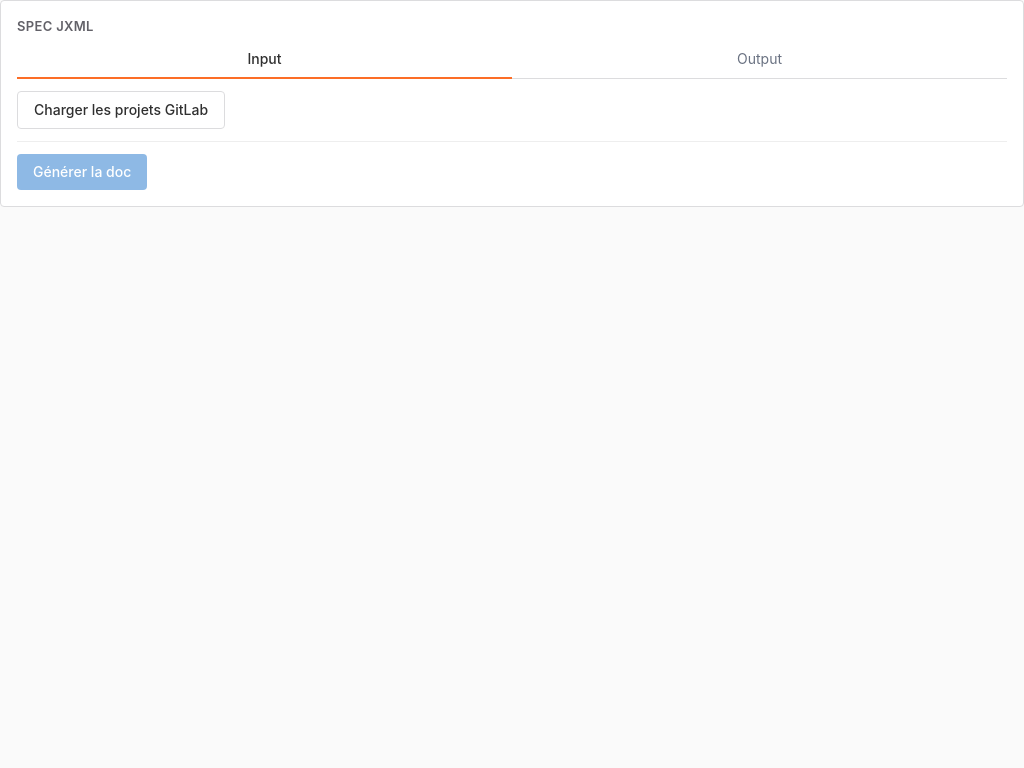
Test case: CodePanel › loads sources (all pre-selected) and auto-selects the single entry point candidate
Step 1. Click the button "Charger les projets GitLab" → point(121, 110), box [17,90,225,128]
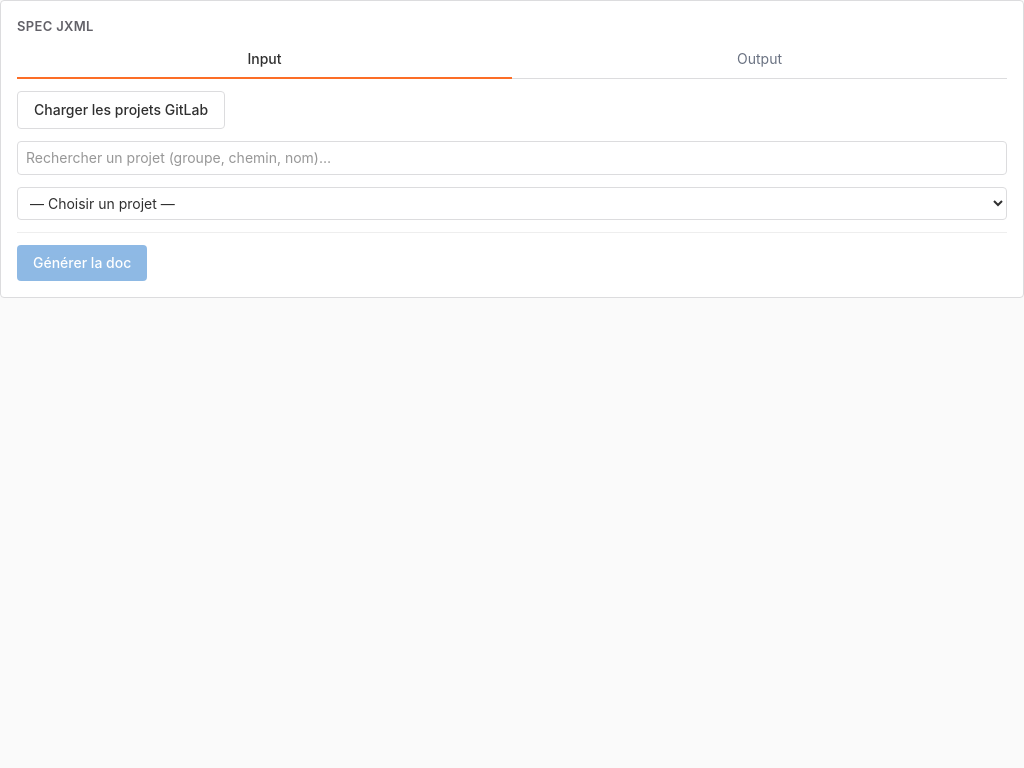
Result: the dropdown is shown
Step 2. Select "[jway-forms] jway-forms/onboarding-kyc" in the dropdown → point(512, 203), box [17,186,1007,220]
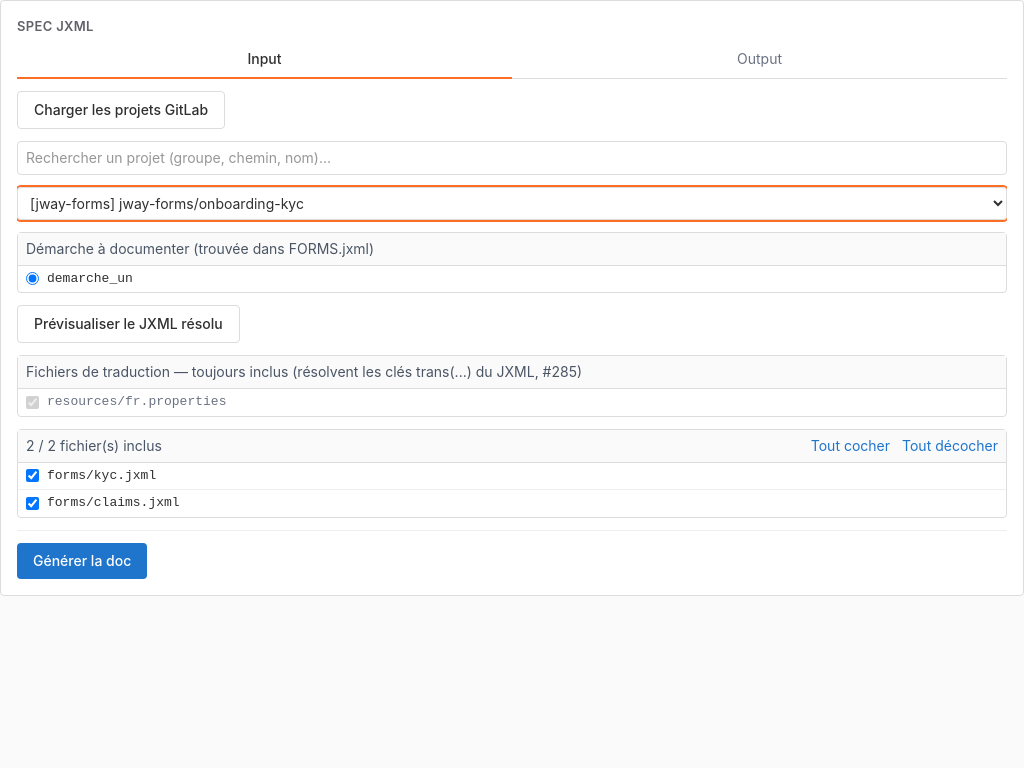
Result: the text "demarche_un" is shown at [47,270,133,288]
Result: the text "2 / 2 fichier(s) inclus" is shown at [26,436,162,456]
Result: the text "forms/kyc.jxml" is shown at [47,467,156,485]
